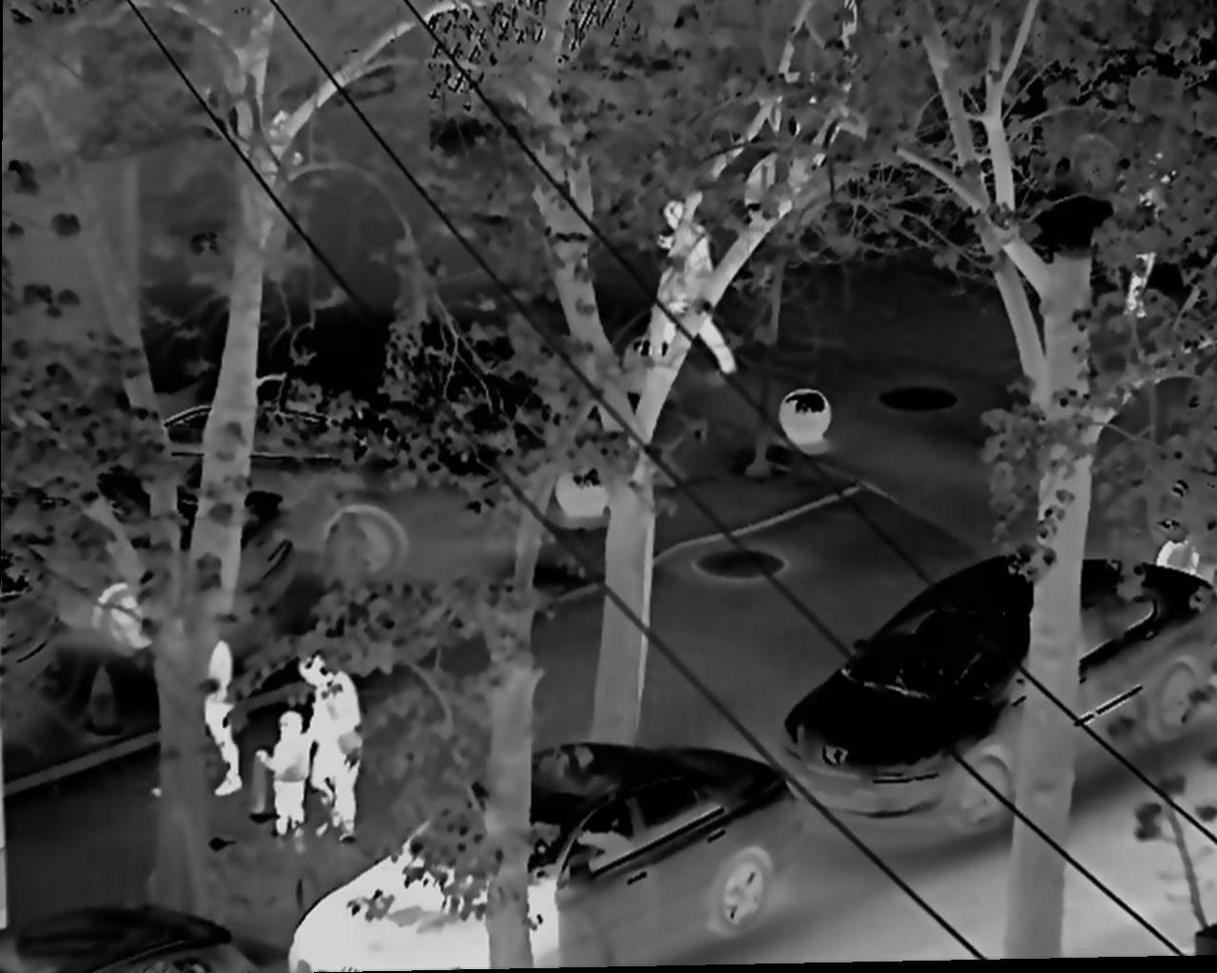person: (647, 192, 740, 381), (167, 609, 245, 804), (296, 651, 363, 848), (258, 696, 309, 847)
